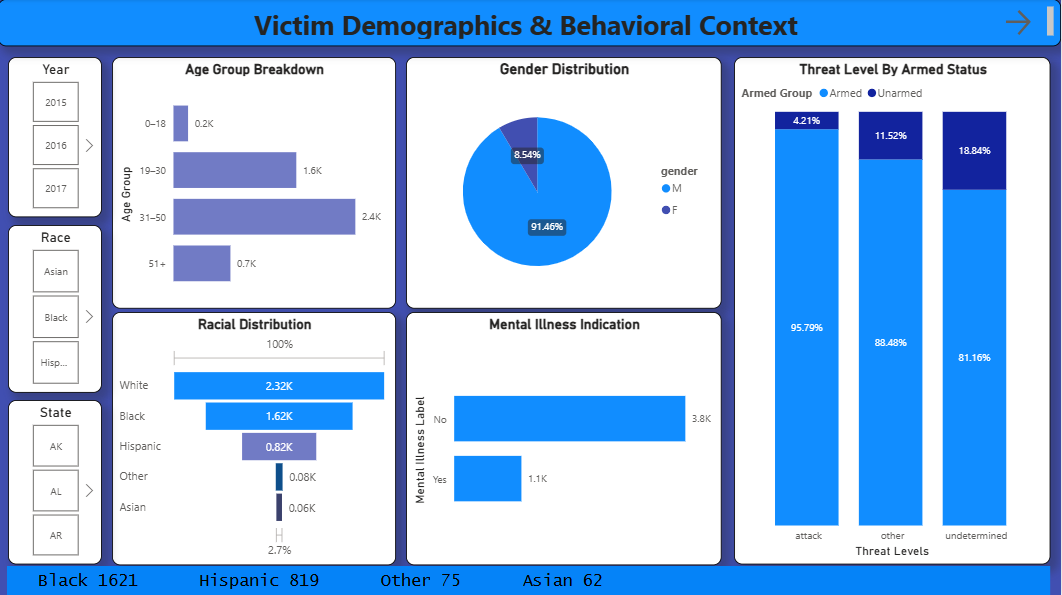

The page's visual inventory and layout, read from the dashboard file:
{"tool":"powerbi","page":{"name":"Demographics and Behaviour","canvas":[1280,720],"ordinal":0},"visuals":[{"type":"pieChart","title":"Gender Distribution","fields":{"Category":["Identity.gender"],"Y":["CountNonNull(shootings - shootings.id)"]},"box":[491.7,70,380,303.3],"z":0},{"type":"funnel","title":"Racial Distribution","fields":{"Category":["Identity.race"],"Y":["CountNonNull(shootings - shootings.id)"]},"box":[136.7,376.7,341.7,305],"z":1000},{"type":"clusteredBarChart","title":"Age Group Breakdown","fields":{"Y":["CountNonNull(shootings - shootings.id)"],"Category":["Identity.Age Group"]},"box":[136.7,70,341.7,303.3],"z":2000},{"type":"hundredPercentStackedColumnChart","title":"Threat Level By Armed Status","fields":{"Category":["shootings - shootings.threat_level"],"Y":["CountNonNull(shootings - shootings.id)"],"Series":["shootings - shootings.Armed Group"]},"box":[885.7,70,381.4,611.4],"z":3000},{"type":"clusteredBarChart","title":"Mental Illness Indication","fields":{"Y":["CountNonNull(shootings - shootings.id)"],"Category":["shootings - shootings.Mental Illness Label"]},"box":[491.7,376.7,380,305],"z":4000},{"type":"slicer","title":"Year","fields":{"Values":["Date.Year"]},"box":[11.7,70,113.3,193.3],"z":5000},{"type":"slicer","title":"Race","fields":{"Values":["Identity.race"]},"box":[11.7,272.5,113.3,201.7],"z":6000},{"type":"slicer","title":"State","fields":{"Values":["Location.state"]},"box":[11.7,483.3,113.3,198.3],"z":7000},{"type":"textbox","box":[0,0,1280,56.7],"z":8000},{"type":"ScrollingTextVisual1448795304508","fields":{"Category":["Identity.race"],"Measure Absolute":["CountNonNull(shootings - shootings.id)"]},"box":[11.4,682.9,1255.7,37.1],"z":9000},{"type":"actionButton","box":[1207.1,8.6,60,40],"z":10000}]}

Visuals, with their boxes in screenshot pixels (x1, y1, x2, y2), scaled from the page's 1280x720 canvas onto the 1062x595 screenshot:
"Gender Distribution" pieChart: {"x1": 408, "y1": 58, "x2": 723, "y2": 308}
"Racial Distribution" funnel: {"x1": 113, "y1": 311, "x2": 397, "y2": 563}
"Age Group Breakdown" clusteredBarChart: {"x1": 113, "y1": 58, "x2": 397, "y2": 308}
"Threat Level By Armed Status" hundredPercentStackedColumnChart: {"x1": 735, "y1": 58, "x2": 1051, "y2": 563}
"Mental Illness Indication" clusteredBarChart: {"x1": 408, "y1": 311, "x2": 723, "y2": 563}
"Year" slicer: {"x1": 10, "y1": 58, "x2": 104, "y2": 218}
"Race" slicer: {"x1": 10, "y1": 225, "x2": 104, "y2": 392}
"State" slicer: {"x1": 10, "y1": 399, "x2": 104, "y2": 563}
textbox: {"x1": 0, "y1": 0, "x2": 1061, "y2": 47}
ScrollingTextVisual1448795304508 - Identity.race x CountNonNull(shootings - shootings.id): {"x1": 9, "y1": 564, "x2": 1051, "y2": 594}
actionButton: {"x1": 1002, "y1": 7, "x2": 1051, "y2": 40}
